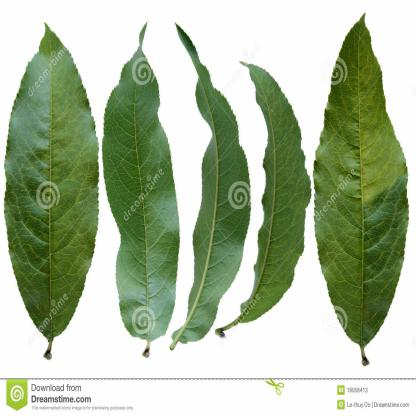Peach leaf: (315, 11, 409, 374), (4, 13, 101, 361), (104, 13, 179, 364), (173, 17, 247, 360), (232, 48, 314, 348)
